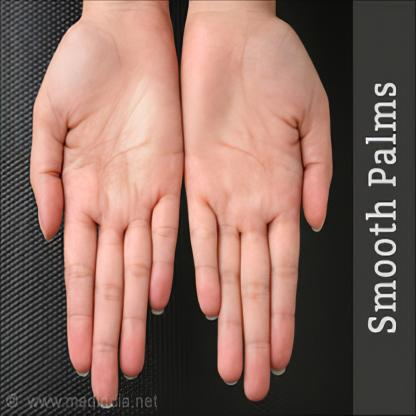palm: (28, 0, 182, 407), (185, 2, 333, 403)
